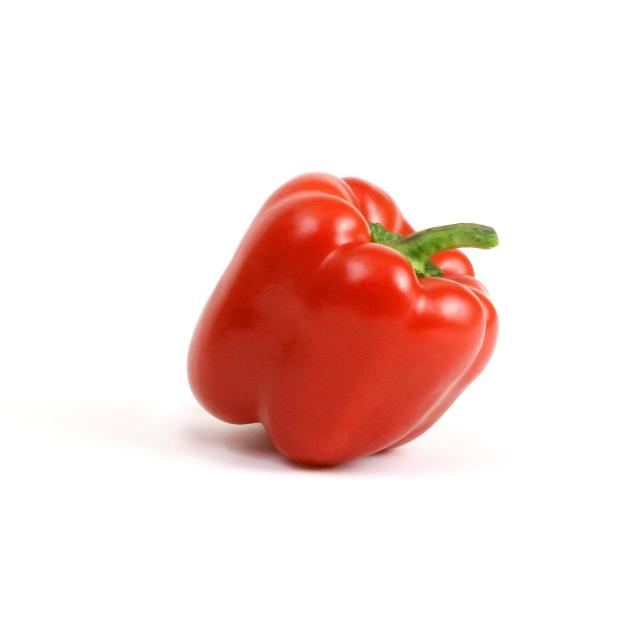Bell pepper: (131, 133, 567, 486)
